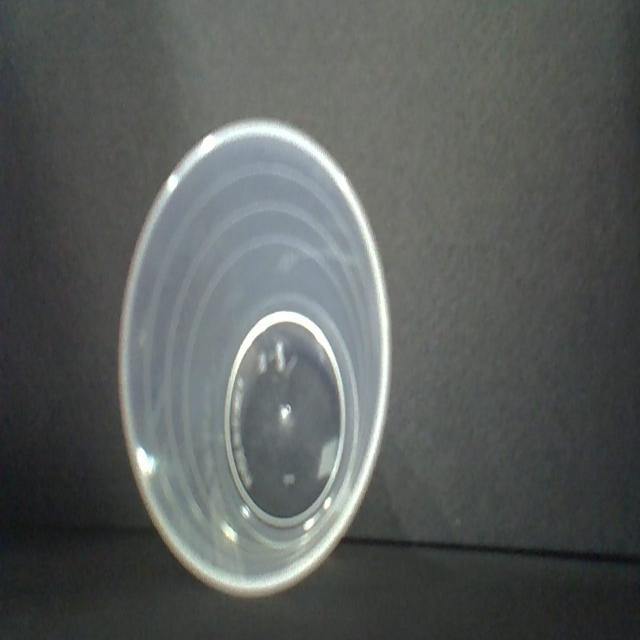cup: (116, 114, 394, 605)
